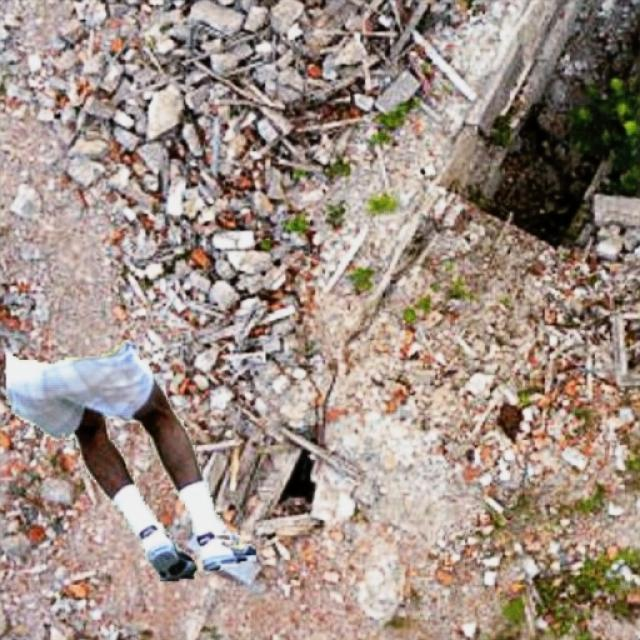Person in Rubble: (6, 340, 255, 580)
